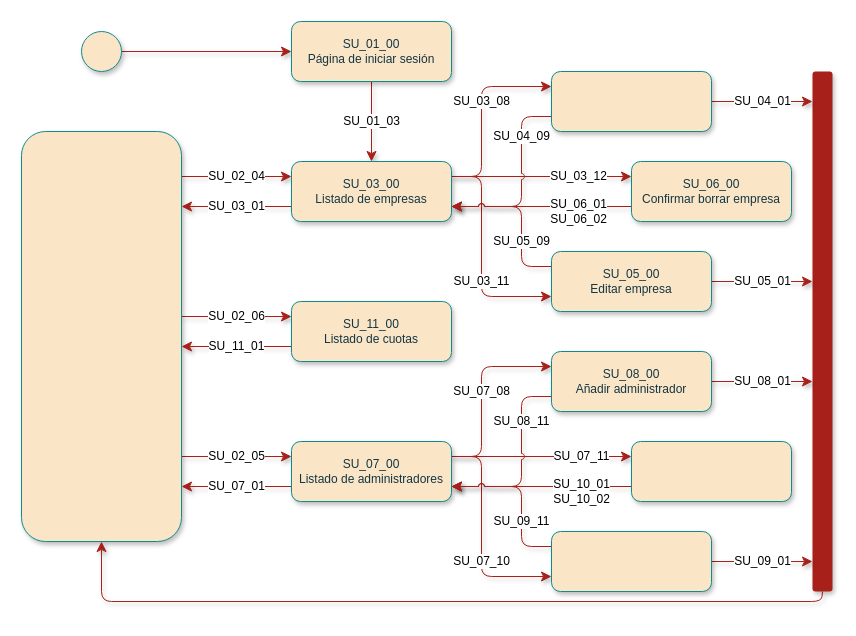
Some shapes in this 856 by 636 pixel diagram are drawn without their labels. The shapes that lost their labels are listed below. From the top down, each one's centre as x and y in pixels, then its label:
At [632,102]: "SU_04_00 Añadir empresa".
At [102,337]: "SU_02_00 Menú lateral".
At [712,472]: "SU_10_00 Confirmar borrar administrador".
At [632,562]: "SU_09_00 Editar administrador".
